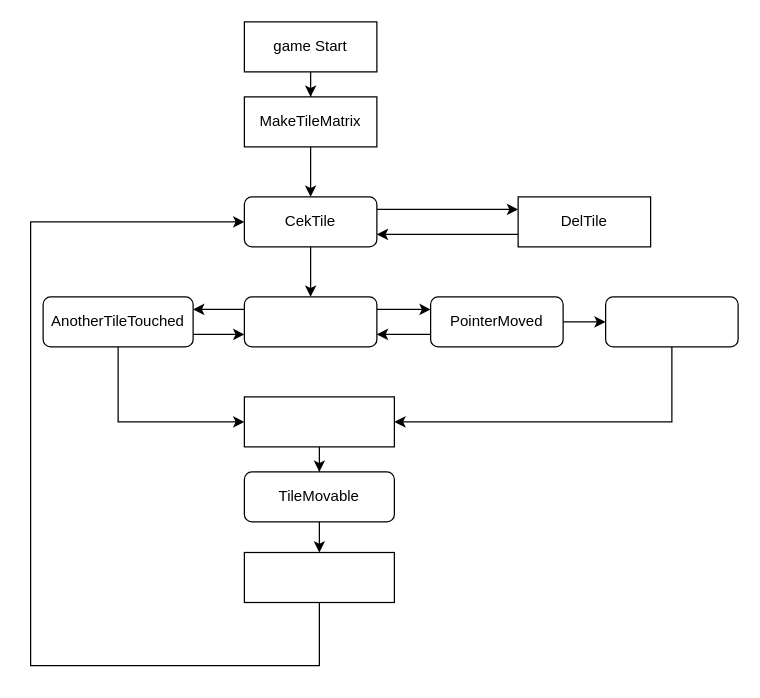
This 760x698 diagram has some shape labels left out. The shapes that lost their labels are listed below. From the top down, each one's centre as x and y in pixels, then its label:
the point at 310,321: GetPointerTouch
the point at 671,321: PoinGetEndPos
the point at 318,421: MoveTile
the point at 318,576: SwapTile
